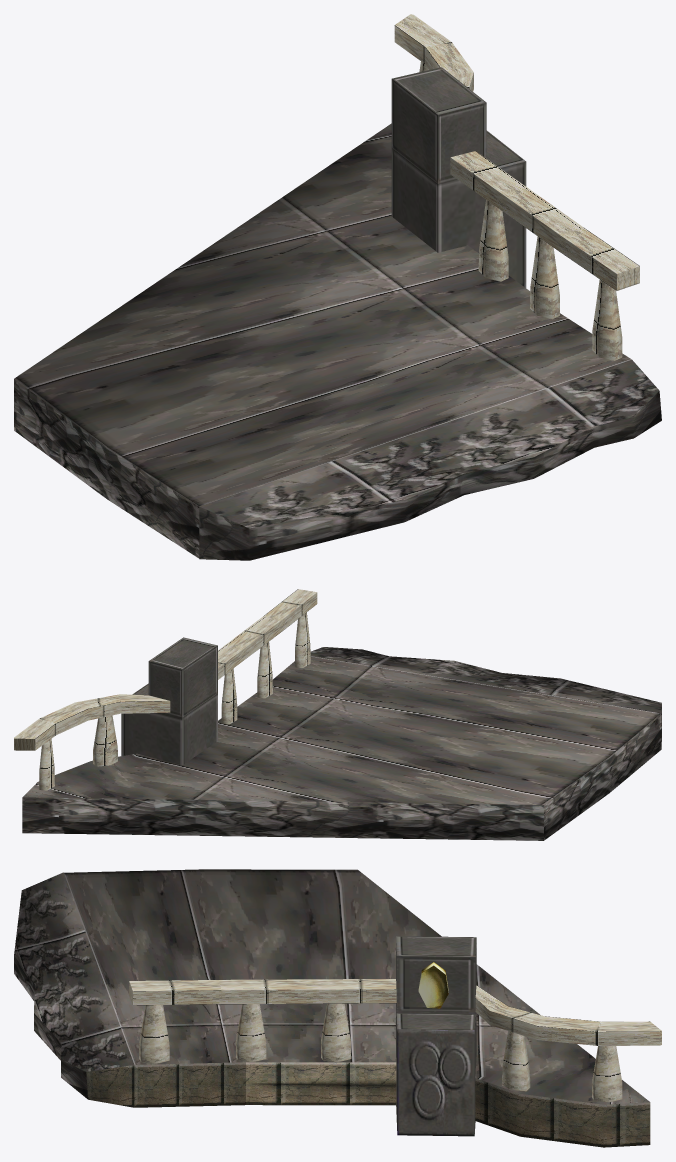
File: INST_SM_WALKWAY_BROKENB_2.fbx
The picture shows the model from 3 angles, top to bottom: view 1: azimuth 30°, elevation 25°; view 2: azimuth 150°, elevation 25°; view 3: azimuth 270°, elevation 25°; orthographic projection. The views are drawn at different scales.
Visible parts, largest first — view 1: INST_SM_WALKWAY_BROKENB_2; view 2: INST_SM_WALKWAY_BROKENB_2; view 3: INST_SM_WALKWAY_BROKENB_2.
Boxes of the visible parts, x1=… form: INST_SM_WALKWAY_BROKENB_2: x1=14, y1=14, x2=661, y2=560; INST_SM_WALKWAY_BROKENB_2: x1=14, y1=589, x2=661, y2=840; INST_SM_WALKWAY_BROKENB_2: x1=14, y1=869, x2=661, y2=1147.
Size of the model in its own units: 71955 by 23218 by 83592.
Materials: 7 (7 with a texture image).
